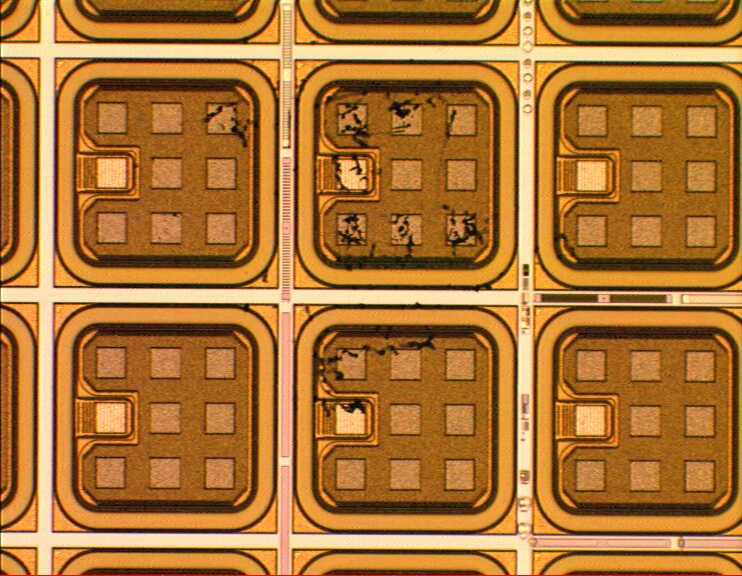SCRATCH: (188, 75, 496, 420)
